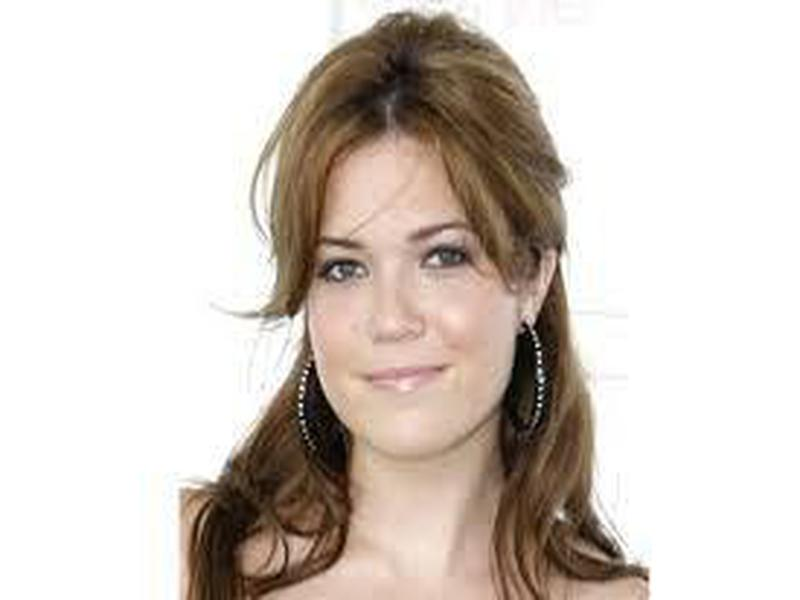without_mask: (299, 184, 514, 453)
